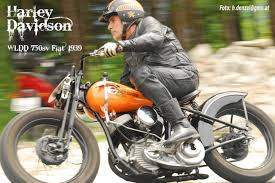helmet: (97, 1, 150, 40)
